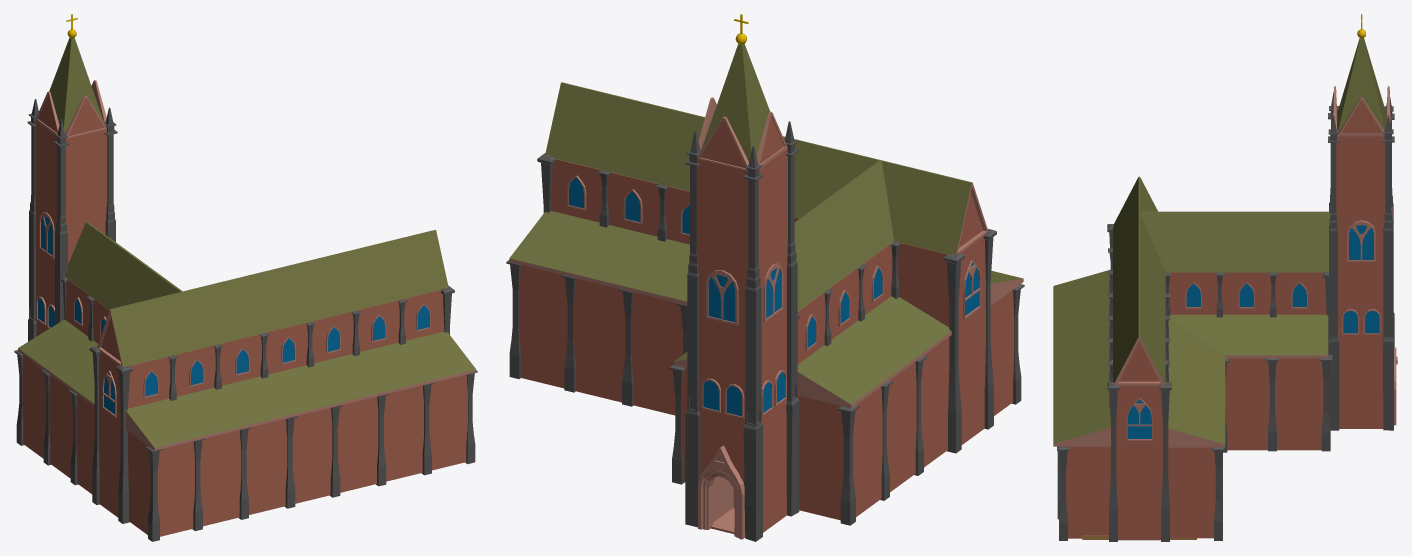
Rendered from Church_FBX2.fbx.
3 renders of one model, left to right at view 1: azimuth 30°, elevation 25°; view 2: azimuth 150°, elevation 25°; view 3: azimuth 270°, elevation 25°, orthographic. The views are drawn at different scales.
Visible parts, largest first — view 1: Intact_Piece_07, Intact_Piece_01, Intact_Piece_05, Intact_Piece_03, Intact_Piece_06, Intact_Piece_04, Intact_Piece_02, Intact_Piece_13, WallPiece_09, Intact_Piece_16, Intact_Piece_14, Intact_Piece_15 (+22 smaller); view 2: Intact_tower, Piece3 (×5), polySurface53, polySurface52, polySurface47, polySurface54, polySurface24, polySurface46, polySurface51, Piece4 (×3), polySurface28, Piece (×2) (+53 smaller); view 3: Intact_tower, Intact_Piece_12, Intact_Piece_16, Intact_Piece_11, Intact_Piece_01, Intact_Piece_07, Intact_Piece_13, Intact_Piece_02, Intact_Piece_03, Intact_Piece_04, Intact_Piece_06, Intact_Piece_05 (+18 smaller).
Boxes of the visible parts, bbox=[...] form: Intact_Piece_07: bbox=[98, 292, 205, 541]; Intact_Piece_01: bbox=[401, 285, 477, 470]; Intact_Piece_05: bbox=[218, 333, 297, 514]; Intact_Piece_03: bbox=[309, 310, 388, 492]; Intact_Piece_06: bbox=[173, 344, 251, 526]; Intact_Piece_04: bbox=[264, 321, 342, 503]; Intact_Piece_02: bbox=[356, 299, 434, 481]; Intact_Piece_13: bbox=[181, 264, 308, 349]; WallPiece_09: bbox=[47, 38, 86, 173]; Intact_Piece_16: bbox=[387, 230, 448, 299]; Intact_Piece_14: bbox=[296, 253, 354, 321]; Intact_Piece_15: bbox=[342, 241, 400, 310]; Intact_tower: bbox=[685, 14, 798, 539]; Piece3 (×5): bbox=[591, 306, 939, 498]; polySurface53: bbox=[882, 160, 984, 230]; polySurface52: bbox=[550, 82, 621, 145]; polySurface47: bbox=[794, 139, 882, 198]; polySurface54: bbox=[611, 97, 678, 159]; polySurface24: bbox=[510, 232, 598, 276]; polySurface46: bbox=[831, 161, 889, 231]; polySurface51: bbox=[890, 213, 988, 254]; Piece4 (×3): bbox=[574, 303, 816, 467]; polySurface28: bbox=[568, 234, 638, 290]; Piece (×2): bbox=[586, 351, 675, 415]; Intact_tower: bbox=[1328, 14, 1397, 430]; Intact_Piece_12: bbox=[1140, 212, 1278, 451]; Intact_Piece_16: bbox=[1113, 313, 1225, 541]; Intact_Piece_11: bbox=[1270, 212, 1332, 451]; Intact_Piece_01: bbox=[1053, 382, 1119, 541]; Intact_Piece_07: bbox=[1053, 176, 1139, 308]; Intact_Piece_13: bbox=[1113, 212, 1228, 452]; Intact_Piece_02: bbox=[1053, 361, 1112, 519]; Intact_Piece_03: bbox=[1053, 338, 1112, 495]; Intact_Piece_04: bbox=[1053, 315, 1112, 473]; Intact_Piece_06: bbox=[1053, 270, 1112, 331]; Intact_Piece_05: bbox=[1053, 293, 1112, 353].
Bounding box in the file's own units: 21.89 × 25.11 × 19.47.
